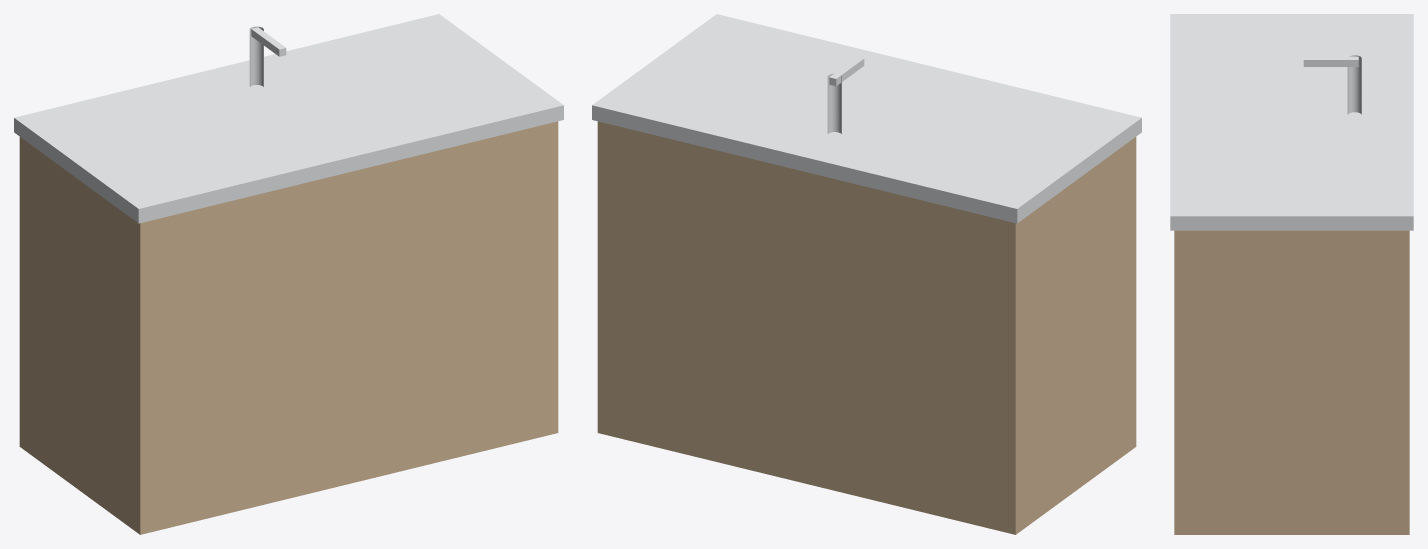
Rendered from SINK001.glb.
3 renders of one model, left to right at view 1: azimuth 30°, elevation 25°; view 2: azimuth 150°, elevation 25°; view 3: azimuth 270°, elevation 25°, orthographic. The views are drawn at different scales.
Visible parts, largest first — view 1: FurnitureRoot; view 2: FurnitureRoot; view 3: FurnitureRoot.
Boxes of the visible parts, x1=… form: FurnitureRoot: x1=14, y1=14, x2=563, y2=534; FurnitureRoot: x1=592, y1=14, x2=1141, y2=534; FurnitureRoot: x1=1170, y1=14, x2=1413, y2=534.
Bounding box in the file's own units: 122 × 106 × 62.
